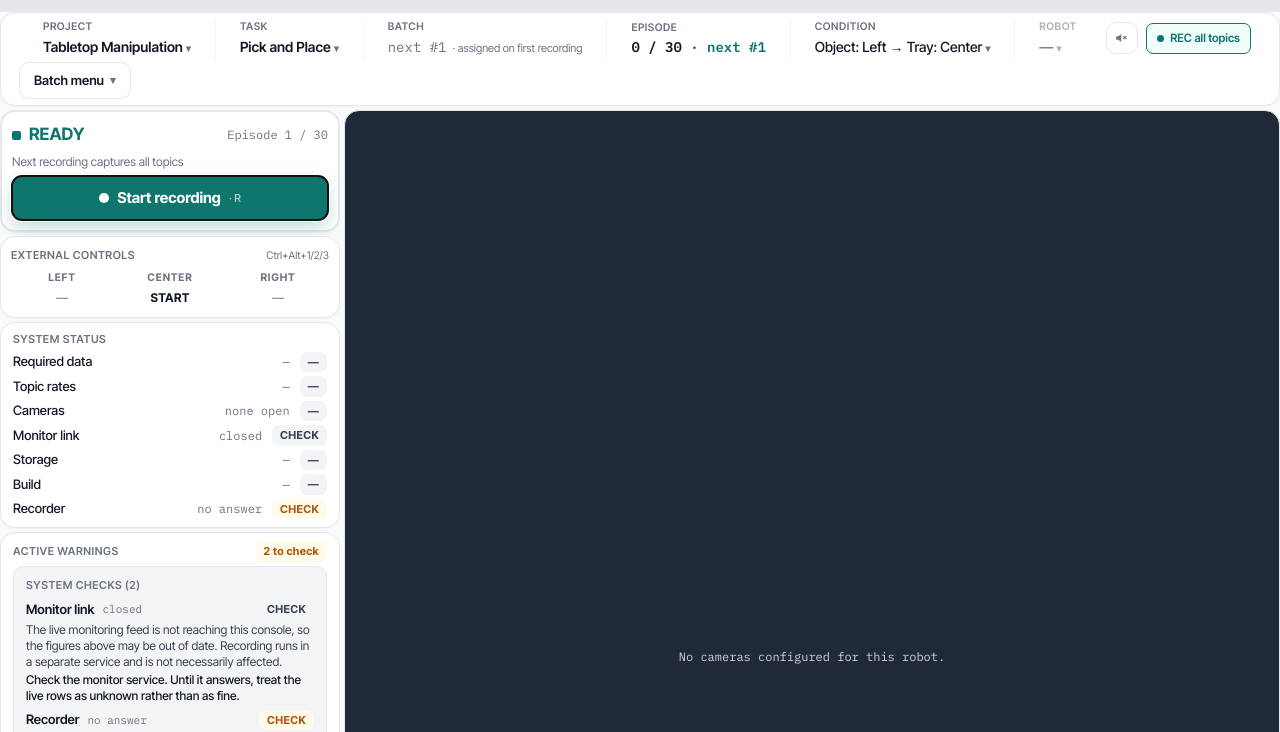
Scenario: a rejected start shows the failed banner and stays on READY
The width and height of the screenshot is (1280, 732).
Expected: the heading with test id "phase-title" reads "READY", [29, 124, 84, 144]
Click the button "Start recording · R" at coordinates (170, 198), box [12, 176, 328, 220]
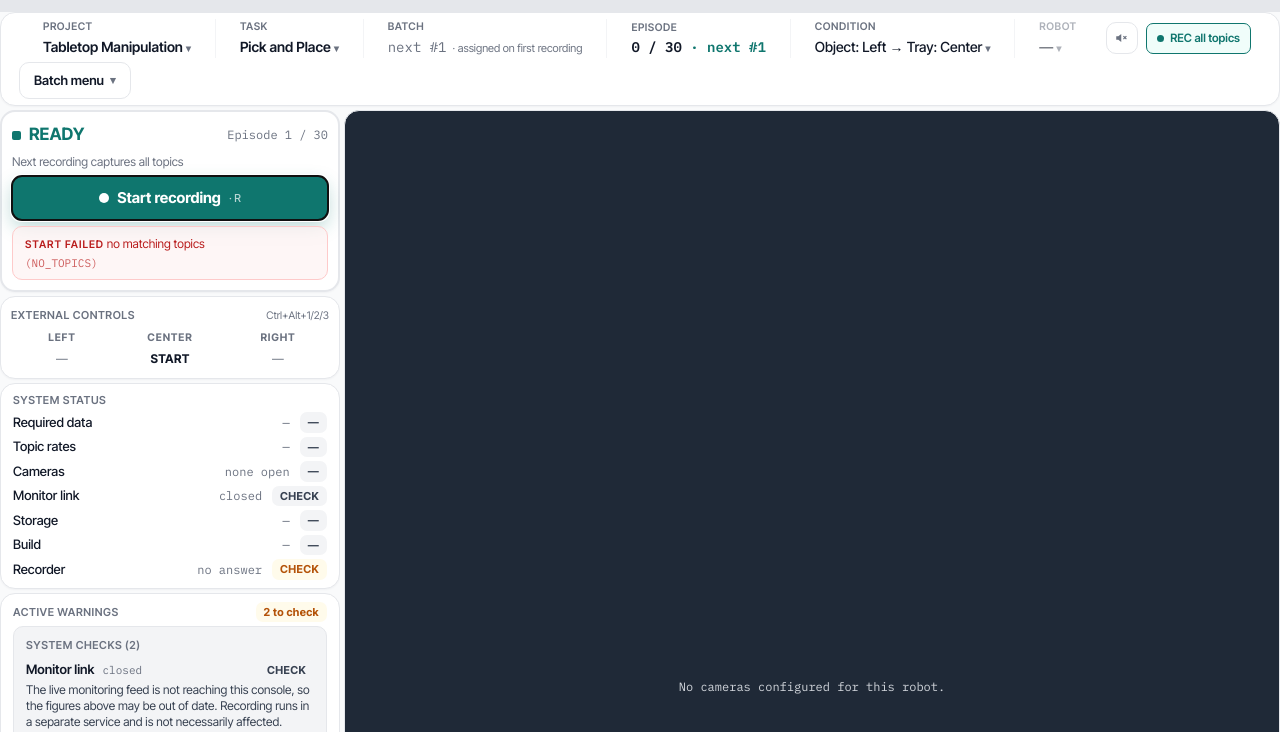
Expected: the heading with test id "phase-title" reads "READY", [29, 124, 84, 144]
Now the text "(NO_TOPICS)" is shown, box [25, 256, 98, 270]
